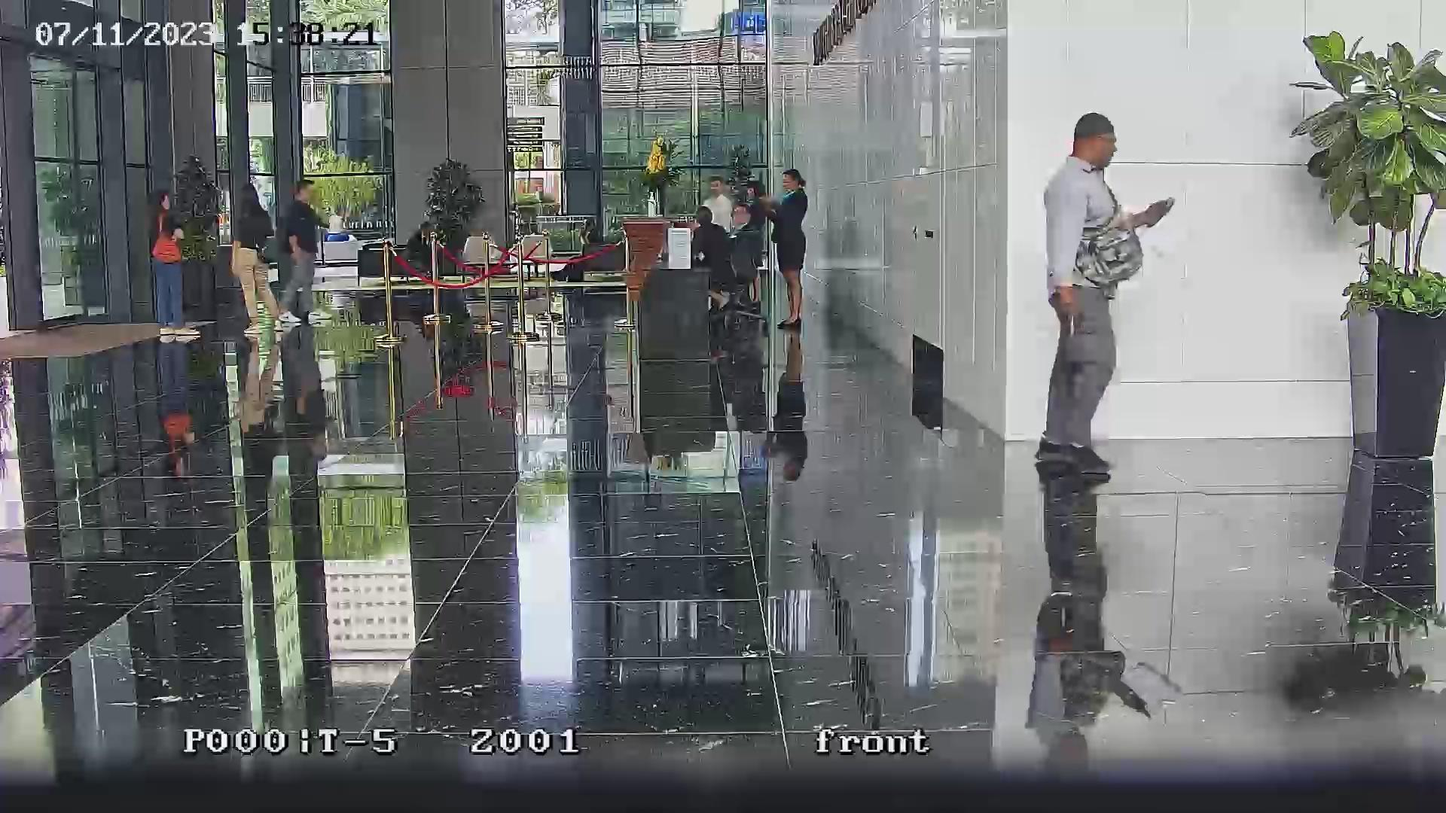person: (1035, 113, 1174, 482), (277, 179, 322, 330), (768, 169, 808, 328), (148, 190, 185, 327), (691, 205, 736, 305), (728, 202, 767, 309), (551, 217, 601, 284), (404, 222, 445, 283), (697, 177, 735, 230)
